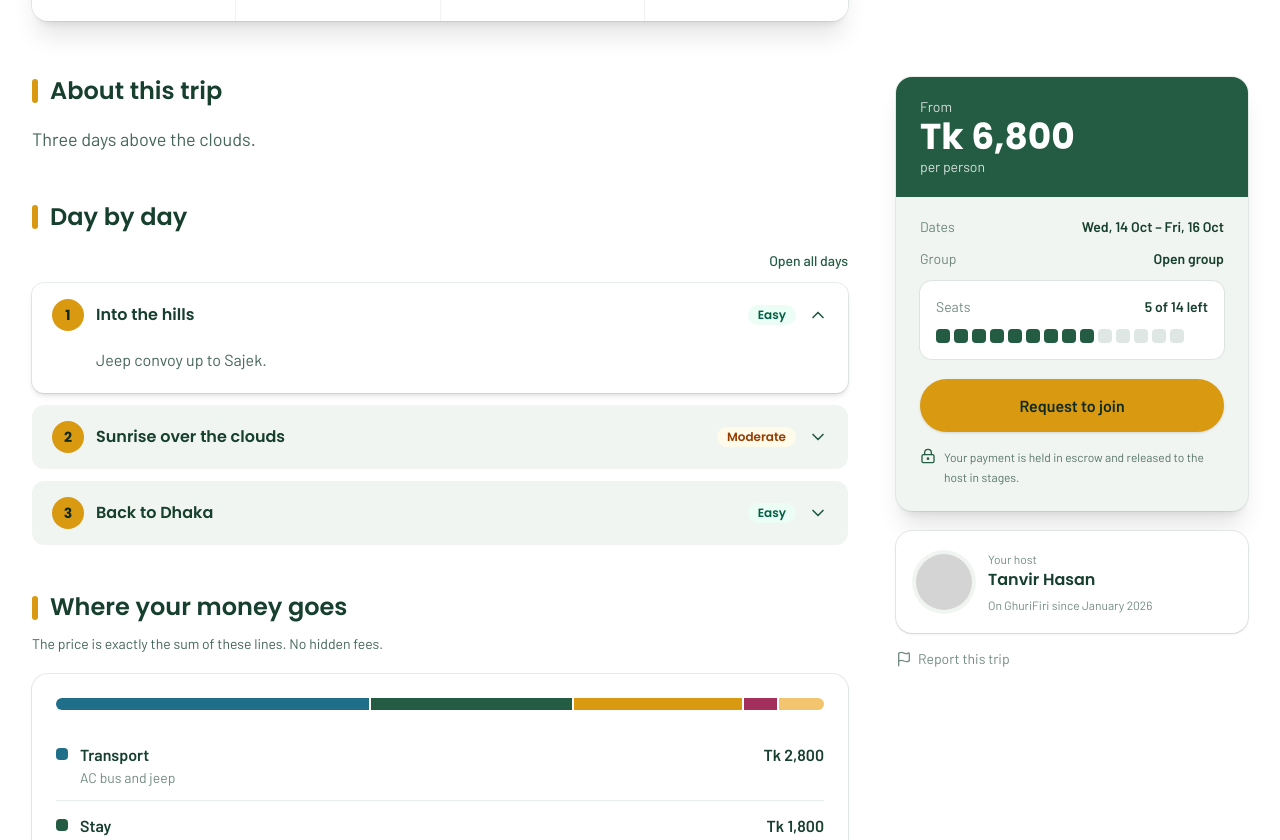
Scenario: TripDetailPage › points an unverified traveller to identity verification
(page scrolled)
Click the button "Request to join".
click(1072, 405)  # box [920,378,1224,432]
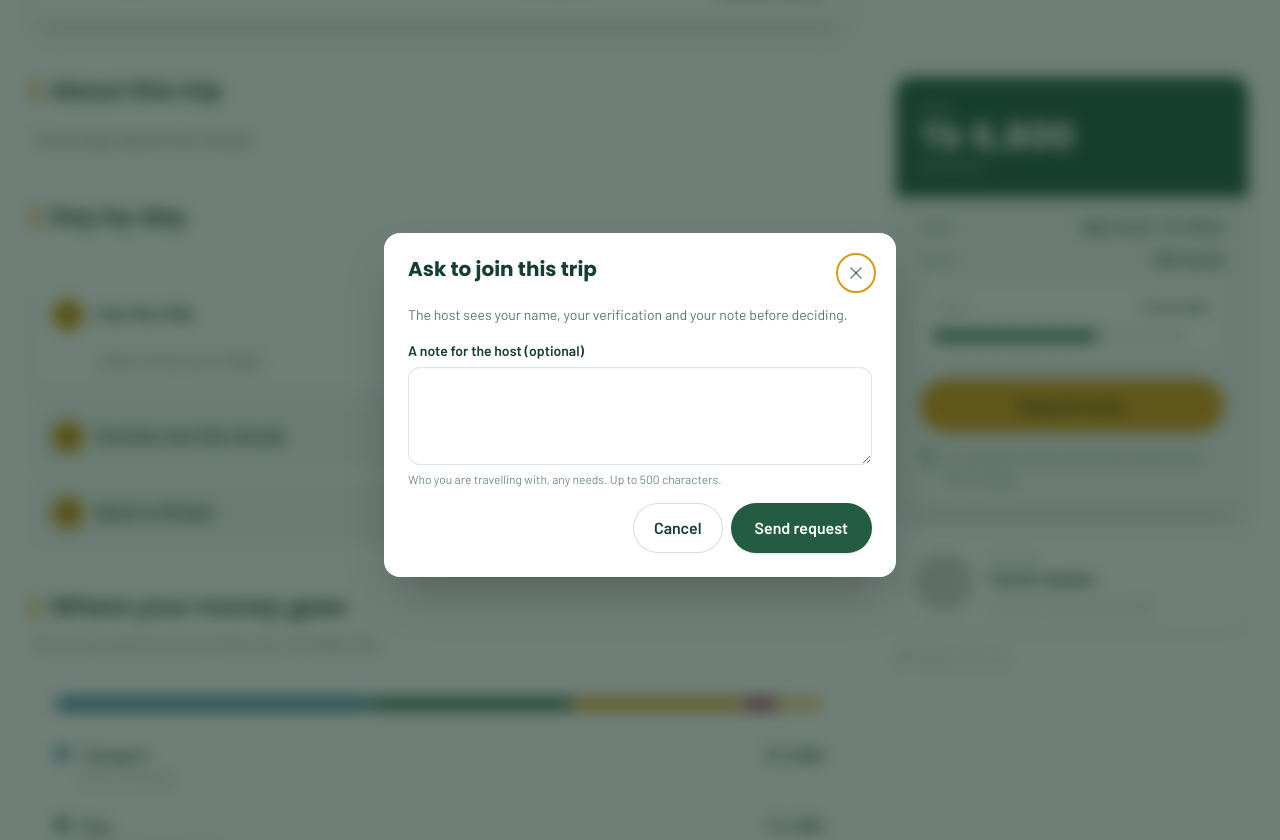
Click the button "Send request".
click(801, 528)  # box [730,503,872,553]
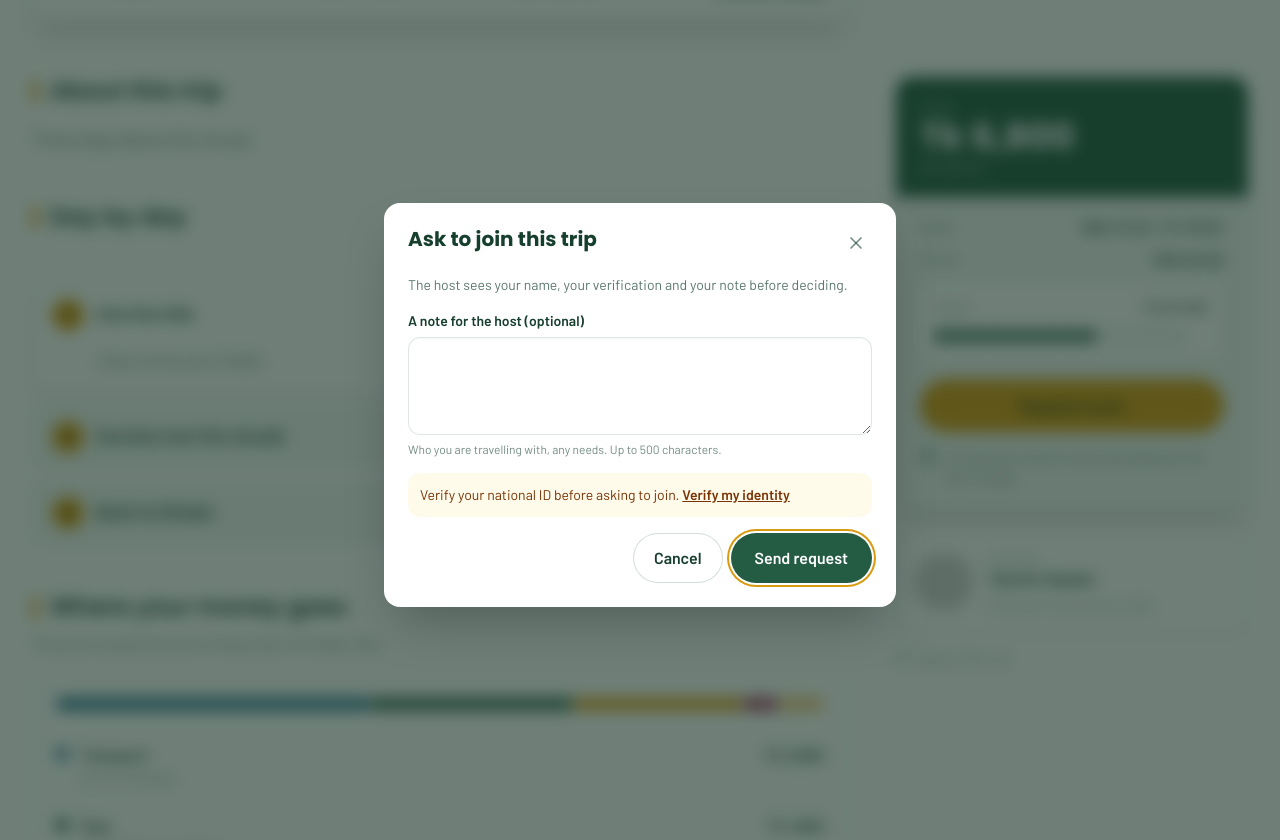
Expected: the text "Verify your national ID before asking to join." is shown, [420,486,680,503]
